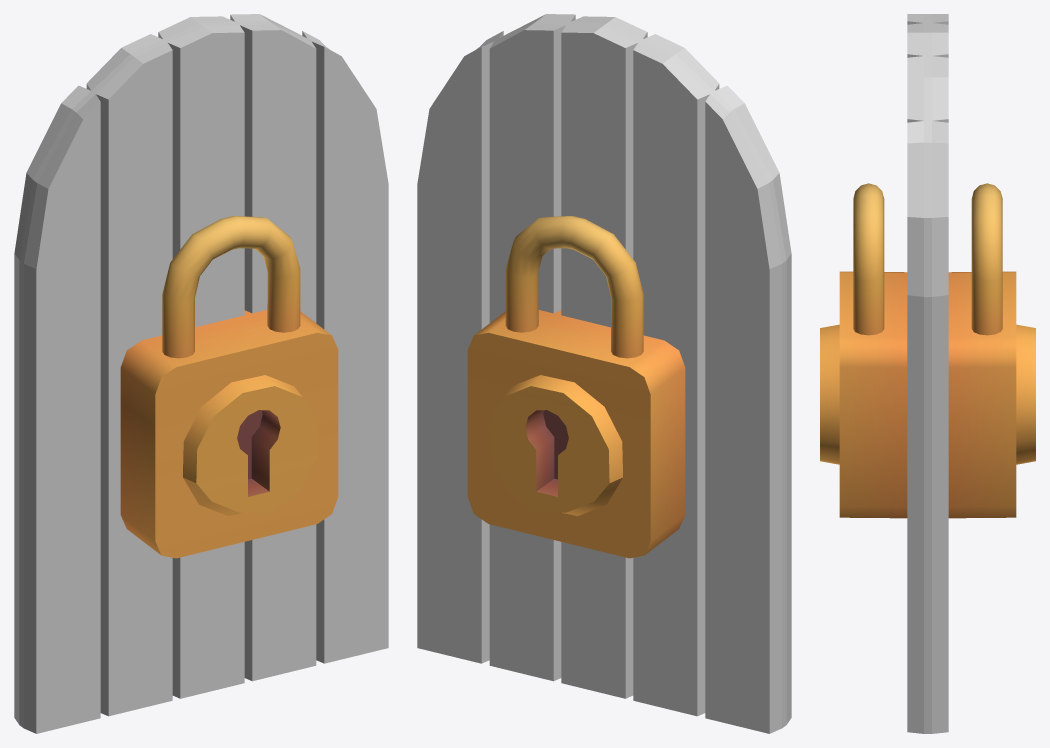
The model's file is key_locked_door.fbx.
3 views of the same model, side by side, from view 1: azimuth 30°, elevation 25°; view 2: azimuth 150°, elevation 25°; view 3: azimuth 270°, elevation 25° (orthographic). The views are drawn at different scales.
Parts seen in each view (by area): view 1: key_locked_door; view 2: key_locked_door; view 3: key_locked_door.
Part boxes in pixels (bbox=[...]): key_locked_door: bbox=[14, 14, 388, 733]; key_locked_door: bbox=[417, 14, 791, 733]; key_locked_door: bbox=[820, 14, 1035, 733].
Size of the model in its own units: 136 by 238 by 75.21.
